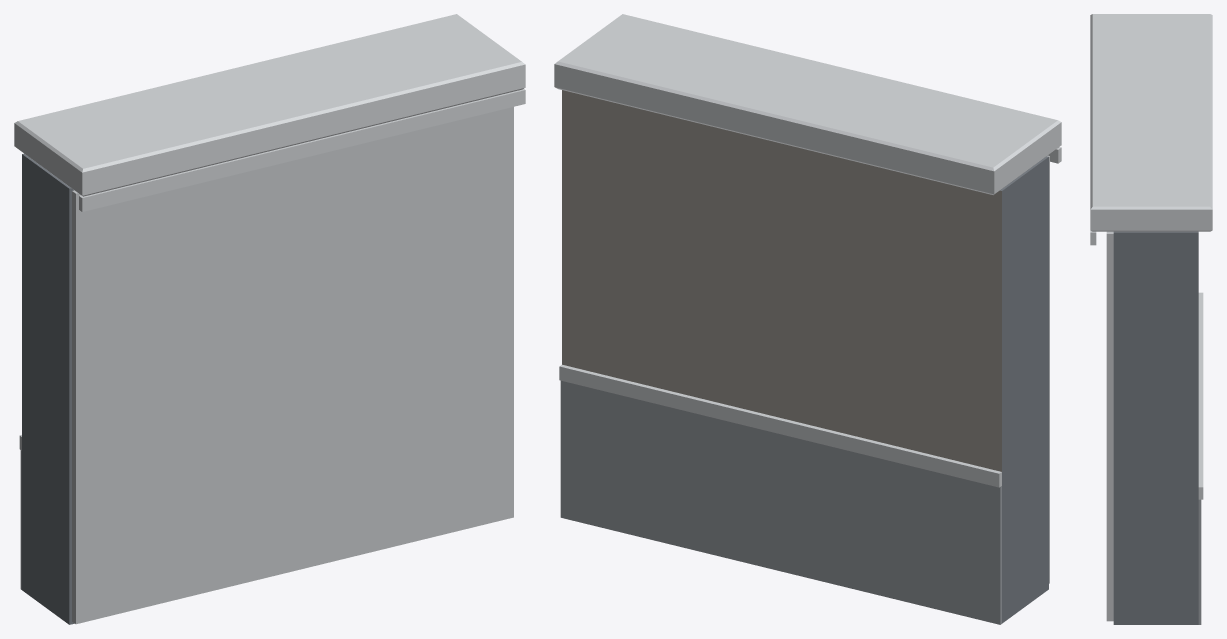
Rendered from SC_Bld_Store_Parapet_1m.gltf.
3 views of the same model, side by side, from view 1: azimuth 30°, elevation 25°; view 2: azimuth 150°, elevation 25°; view 3: azimuth 270°, elevation 25° (orthographic). The views are drawn at different scales.
Parts seen in each view (by area): view 1: SC_Bld_Store_Parapet_1m; view 2: SC_Bld_Store_Parapet_1m; view 3: SC_Bld_Store_Parapet_1m.
Boxes of the visible parts, x1=… form: SC_Bld_Store_Parapet_1m: x1=14, y1=14, x2=525, y2=624; SC_Bld_Store_Parapet_1m: x1=554, y1=14, x2=1061, y2=624; SC_Bld_Store_Parapet_1m: x1=1090, y1=14, x2=1212, y2=624.
Bounding box in the file's own units: 1 × 1 × 0.265.
1 material, 1 textured.
